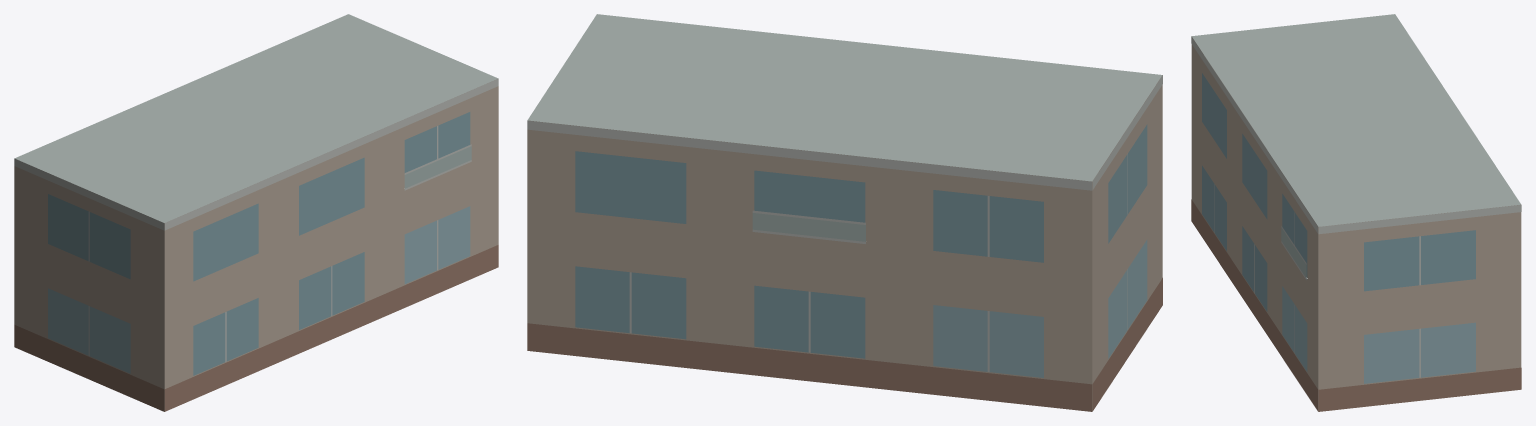
Rendered from survey-upis-32662062.glb.
3 views of the same model, side by side, from view 1: azimuth 30°, elevation 25°; view 2: azimuth 150°, elevation 25°; view 3: azimuth 270°, elevation 25° (orthographic). The views are drawn at different scales.
Visible parts, largest first — view 1: survey-upis-32662062.tmp; view 2: survey-upis-32662062.tmp; view 3: survey-upis-32662062.tmp.
Part boxes in pixels (x1,y1,x2,y2): survey-upis-32662062.tmp: [14, 14, 498, 411]; survey-upis-32662062.tmp: [527, 14, 1162, 411]; survey-upis-32662062.tmp: [1191, 14, 1521, 411].
Bounding box in the file's own units: 15.06 × 6.1 × 9.87.
